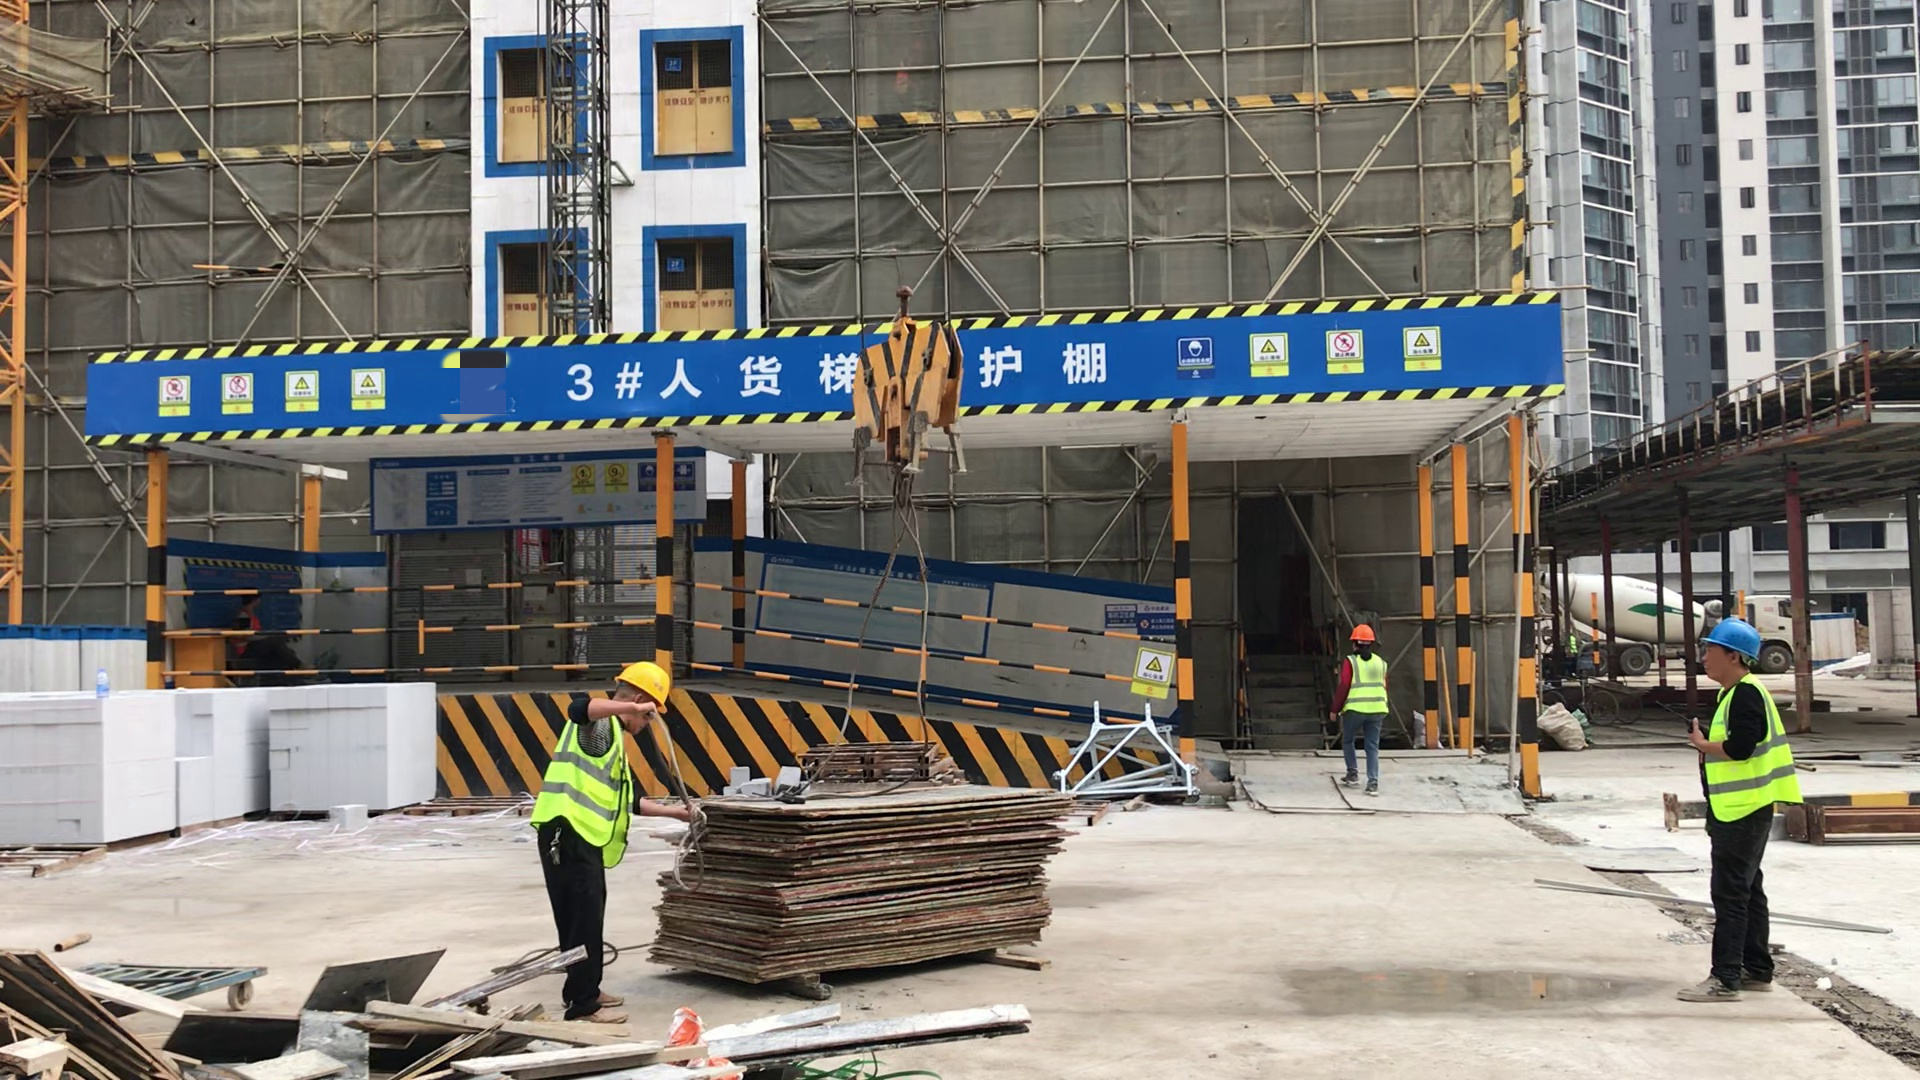board: (655, 784, 1080, 986)
brick: (2, 679, 433, 851)
helmet: (610, 658, 672, 712), (1701, 620, 1761, 660), (1349, 621, 1375, 644)
hook: (852, 317, 969, 506)
person: (543, 657, 697, 1020), (1688, 623, 1806, 1017), (1332, 622, 1393, 800)
slogan: (1166, 323, 1450, 378), (152, 368, 395, 415), (565, 456, 698, 521), (1104, 601, 1181, 637), (1131, 644, 1173, 698)
vest: (534, 706, 629, 866), (1703, 673, 1804, 822), (1342, 651, 1390, 720)
